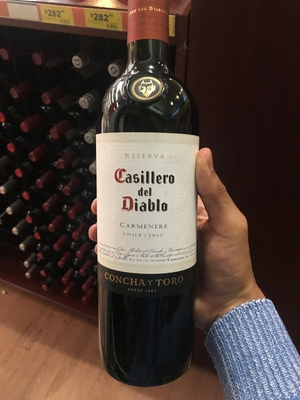casillero del diablo carmenere: (93, 18, 217, 393)
